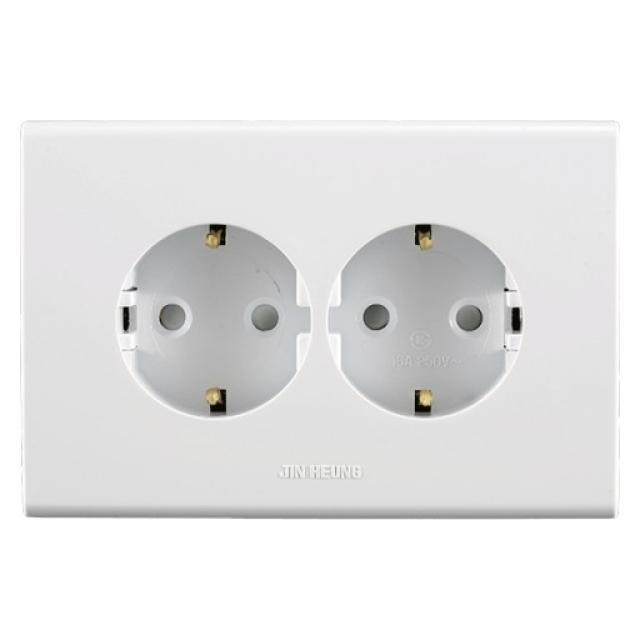typeb: (15, 113, 628, 531)
